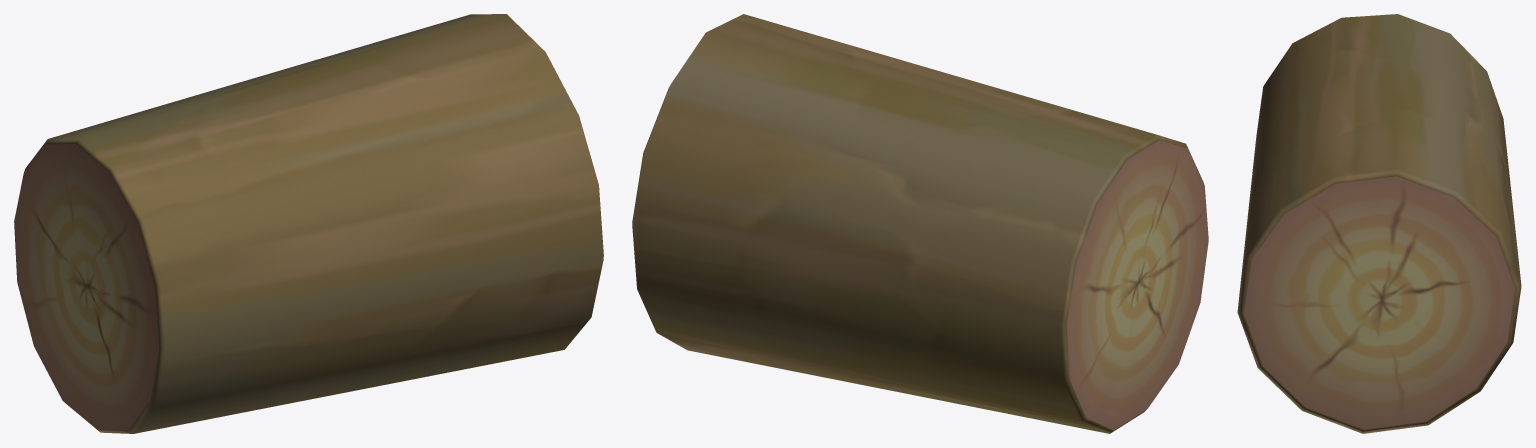
The model's file is m_env_collect_tree_cedar_fir_01.fbx.
The picture shows the model from 3 angles, left to right: view 1: azimuth 30°, elevation 25°; view 2: azimuth 150°, elevation 25°; view 3: azimuth 270°, elevation 25°; orthographic projection. The views are drawn at different scales.
Visible parts, largest first — view 1: m_env_collect_tree_cedar_fir_01; view 2: m_env_collect_tree_cedar_fir_01; view 3: m_env_collect_tree_cedar_fir_01.
Part boxes in pixels (x1,y1,x2,y2): m_env_collect_tree_cedar_fir_01: (14,14,603,433); m_env_collect_tree_cedar_fir_01: (632,14,1208,433); m_env_collect_tree_cedar_fir_01: (1237,14,1521,433).
Size of the model in its own units: 58.31 by 41.17 by 39.97.
